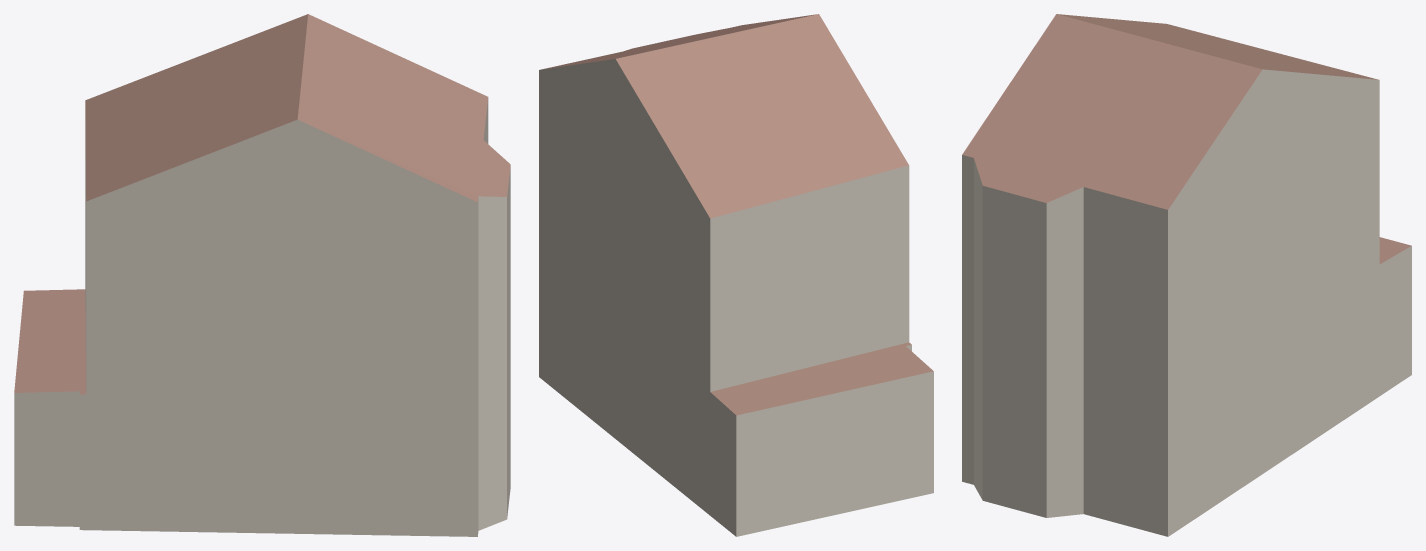
The picture shows the model from 3 angles, left to right: view 1: azimuth 30°, elevation 25°; view 2: azimuth 150°, elevation 25°; view 3: azimuth 270°, elevation 25°; orthographic projection. The views are drawn at different scales.
Bounding box in the file's own units: 13.26 × 11.61 × 11.69.
